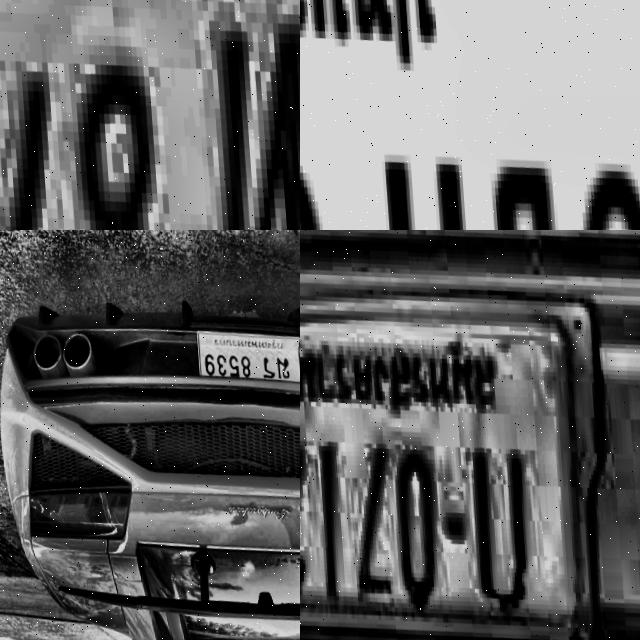license-plate: (300, 267, 609, 640), (300, 0, 640, 230), (0, 0, 300, 230), (193, 312, 300, 381)
